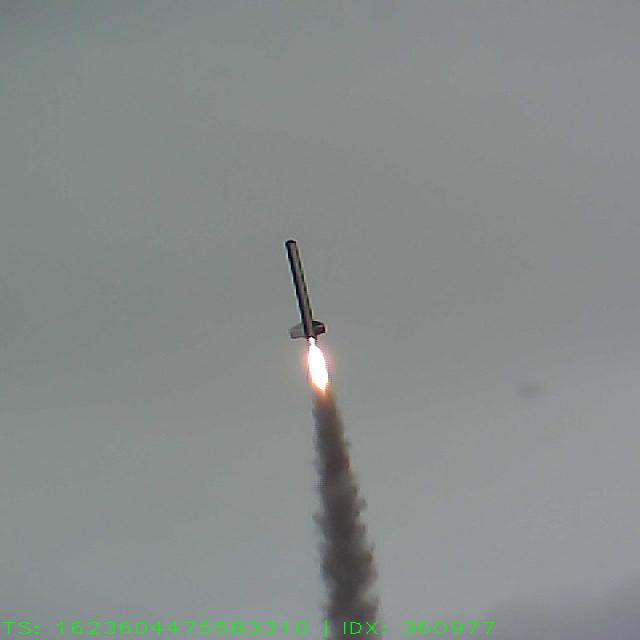Rocket: (283, 238, 326, 342)
